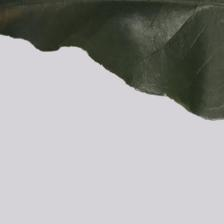healthy: (5, 1, 224, 109)
